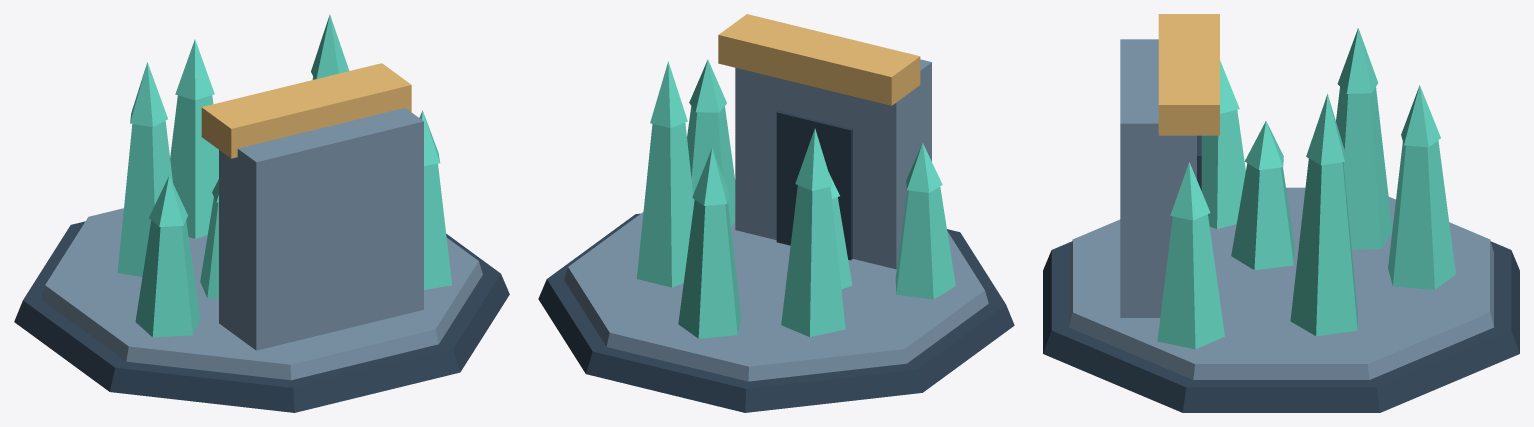
The model's file is CrystalMine_3.fbx.
3 renders of one model, left to right at view 1: azimuth 30°, elevation 25°; view 2: azimuth 150°, elevation 25°; view 3: azimuth 270°, elevation 25°, orthographic. The views are drawn at different scales.
Parts seen in each view (by area): view 1: CrystalMine_3; view 2: CrystalMine_3; view 3: CrystalMine_3.
Boxes of the visible parts, bbox=[...] form: CrystalMine_3: bbox=[14, 14, 509, 412]; CrystalMine_3: bbox=[538, 14, 1014, 412]; CrystalMine_3: bbox=[1043, 14, 1519, 412].
Bounding box in the file's own units: 2.7 × 1.65 × 2.7.
